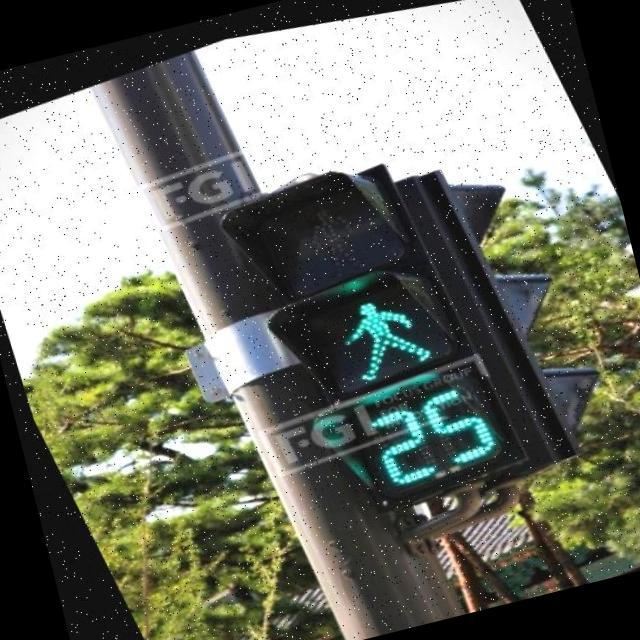greenlight: (223, 153, 514, 408)
